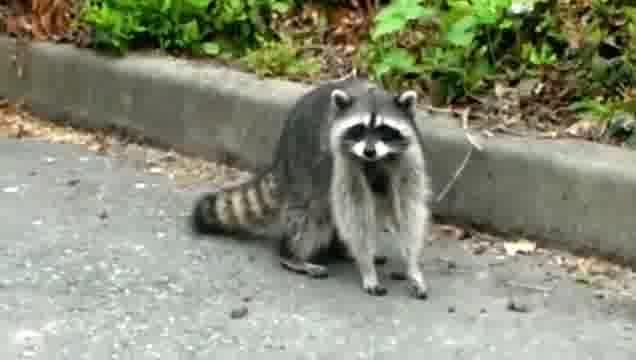raccoon: (195, 81, 430, 299)
